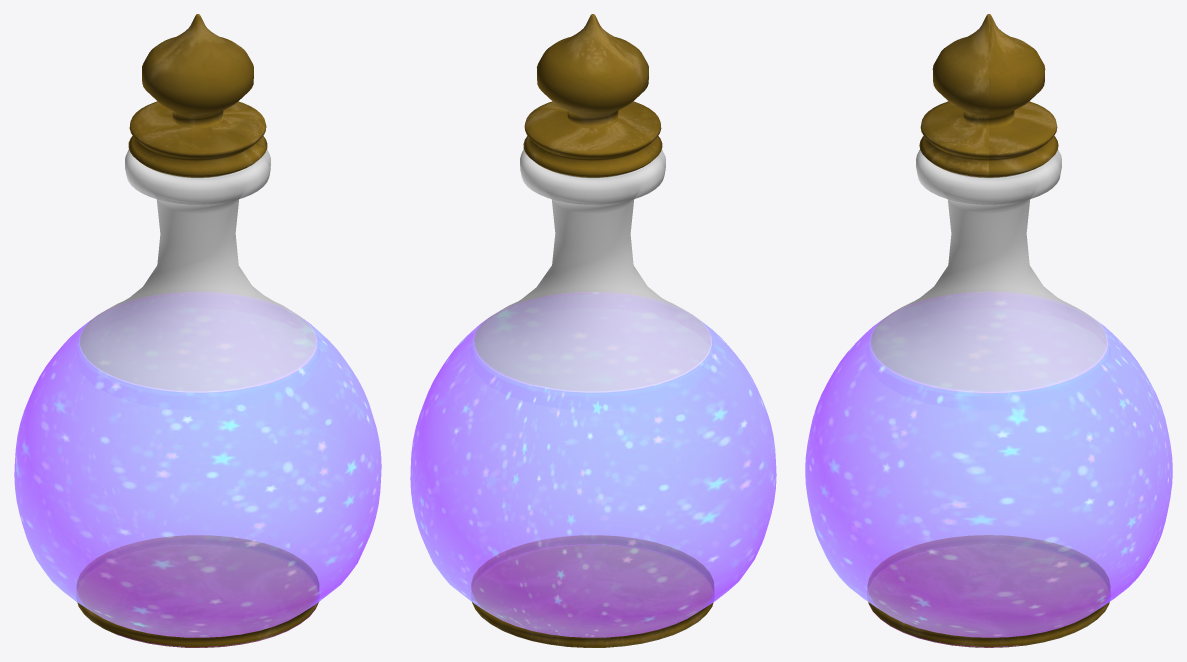
Rendered from potion_for_media__motion.glb.
3 views of the same model, side by side, from view 1: azimuth 30°, elevation 25°; view 2: azimuth 150°, elevation 25°; view 3: azimuth 270°, elevation 25° (orthographic).
Visible parts, largest first — view 1: pDisc2; view 2: pDisc2; view 3: pDisc2.
Part boxes in pixels (<box>): pDisc2: <box>14,14,381,647</box>; pDisc2: <box>410,14,776,647</box>; pDisc2: <box>805,14,1172,647</box>.
Size of the model in its own units: 2.28 by 3.99 by 2.28.
Materials: 1 (1 with a texture image).
